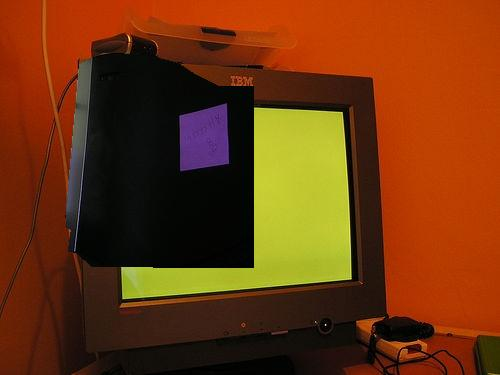tampered: (66, 54, 254, 268)
